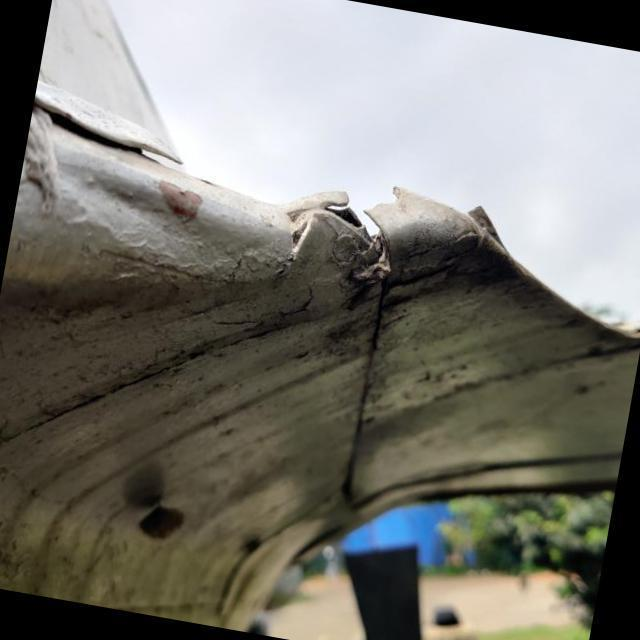Rupture: (290, 172, 410, 284), (396, 172, 528, 272)
